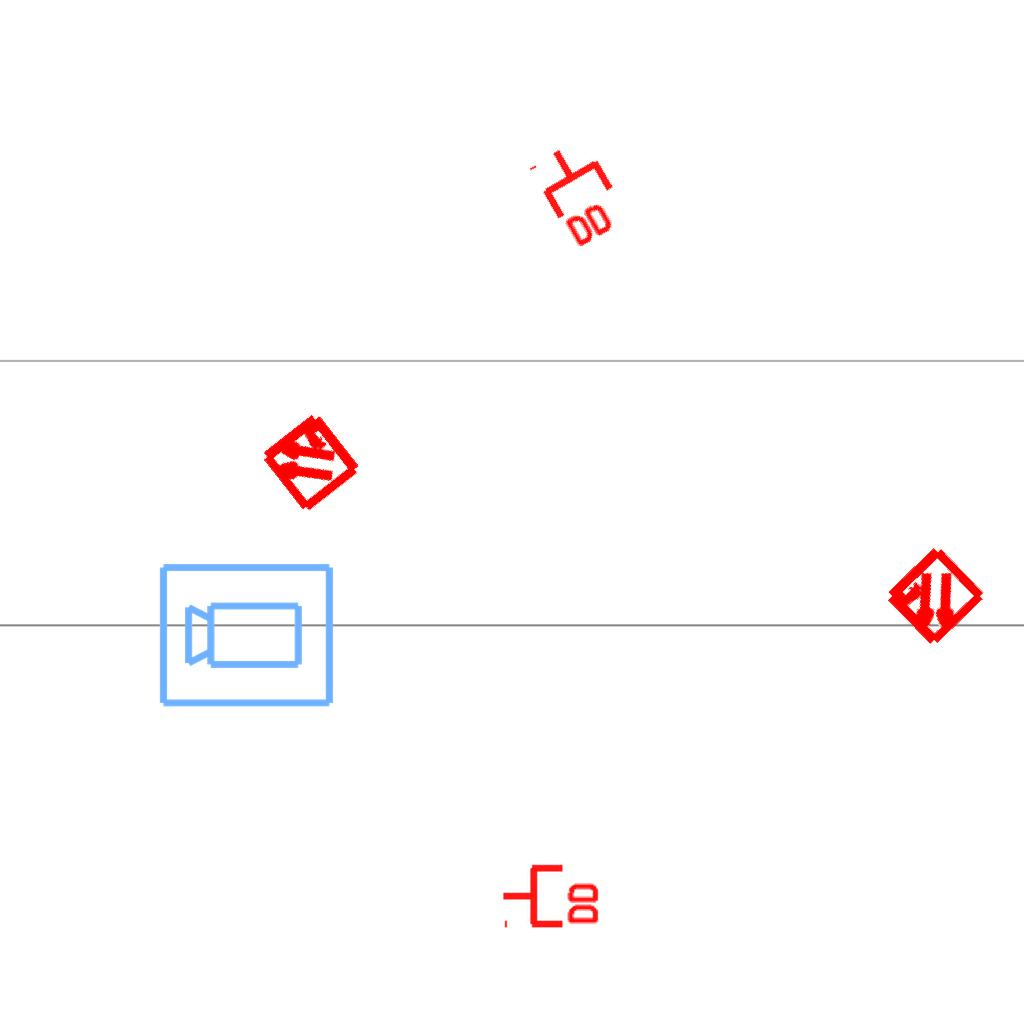Datenanschluss_zweifach: (525, 130, 638, 255), (500, 860, 603, 929)
KFO_Kamera_mit_Festobjektiv: (156, 557, 338, 711)
OT_Multisensormelder_(Kombination_RMO_WMD): (853, 517, 1014, 678), (230, 381, 389, 540)
